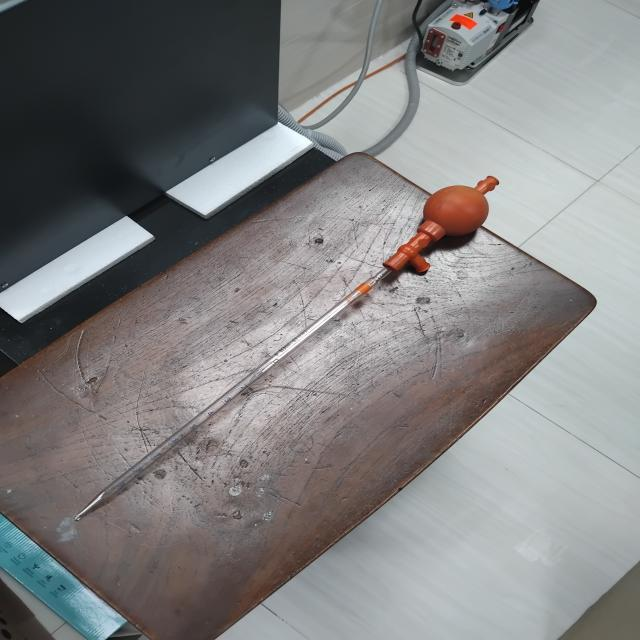Volumetric_Pipet: (64, 150, 527, 532)
